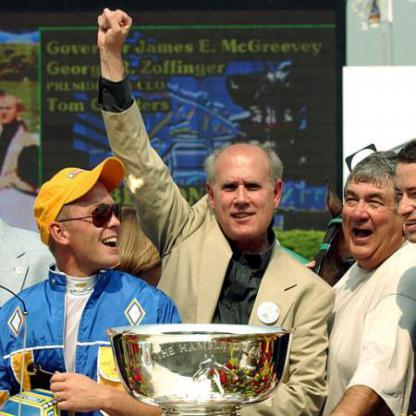face: (62, 163, 130, 272), (344, 155, 405, 264), (213, 144, 277, 239), (1, 96, 18, 124)
